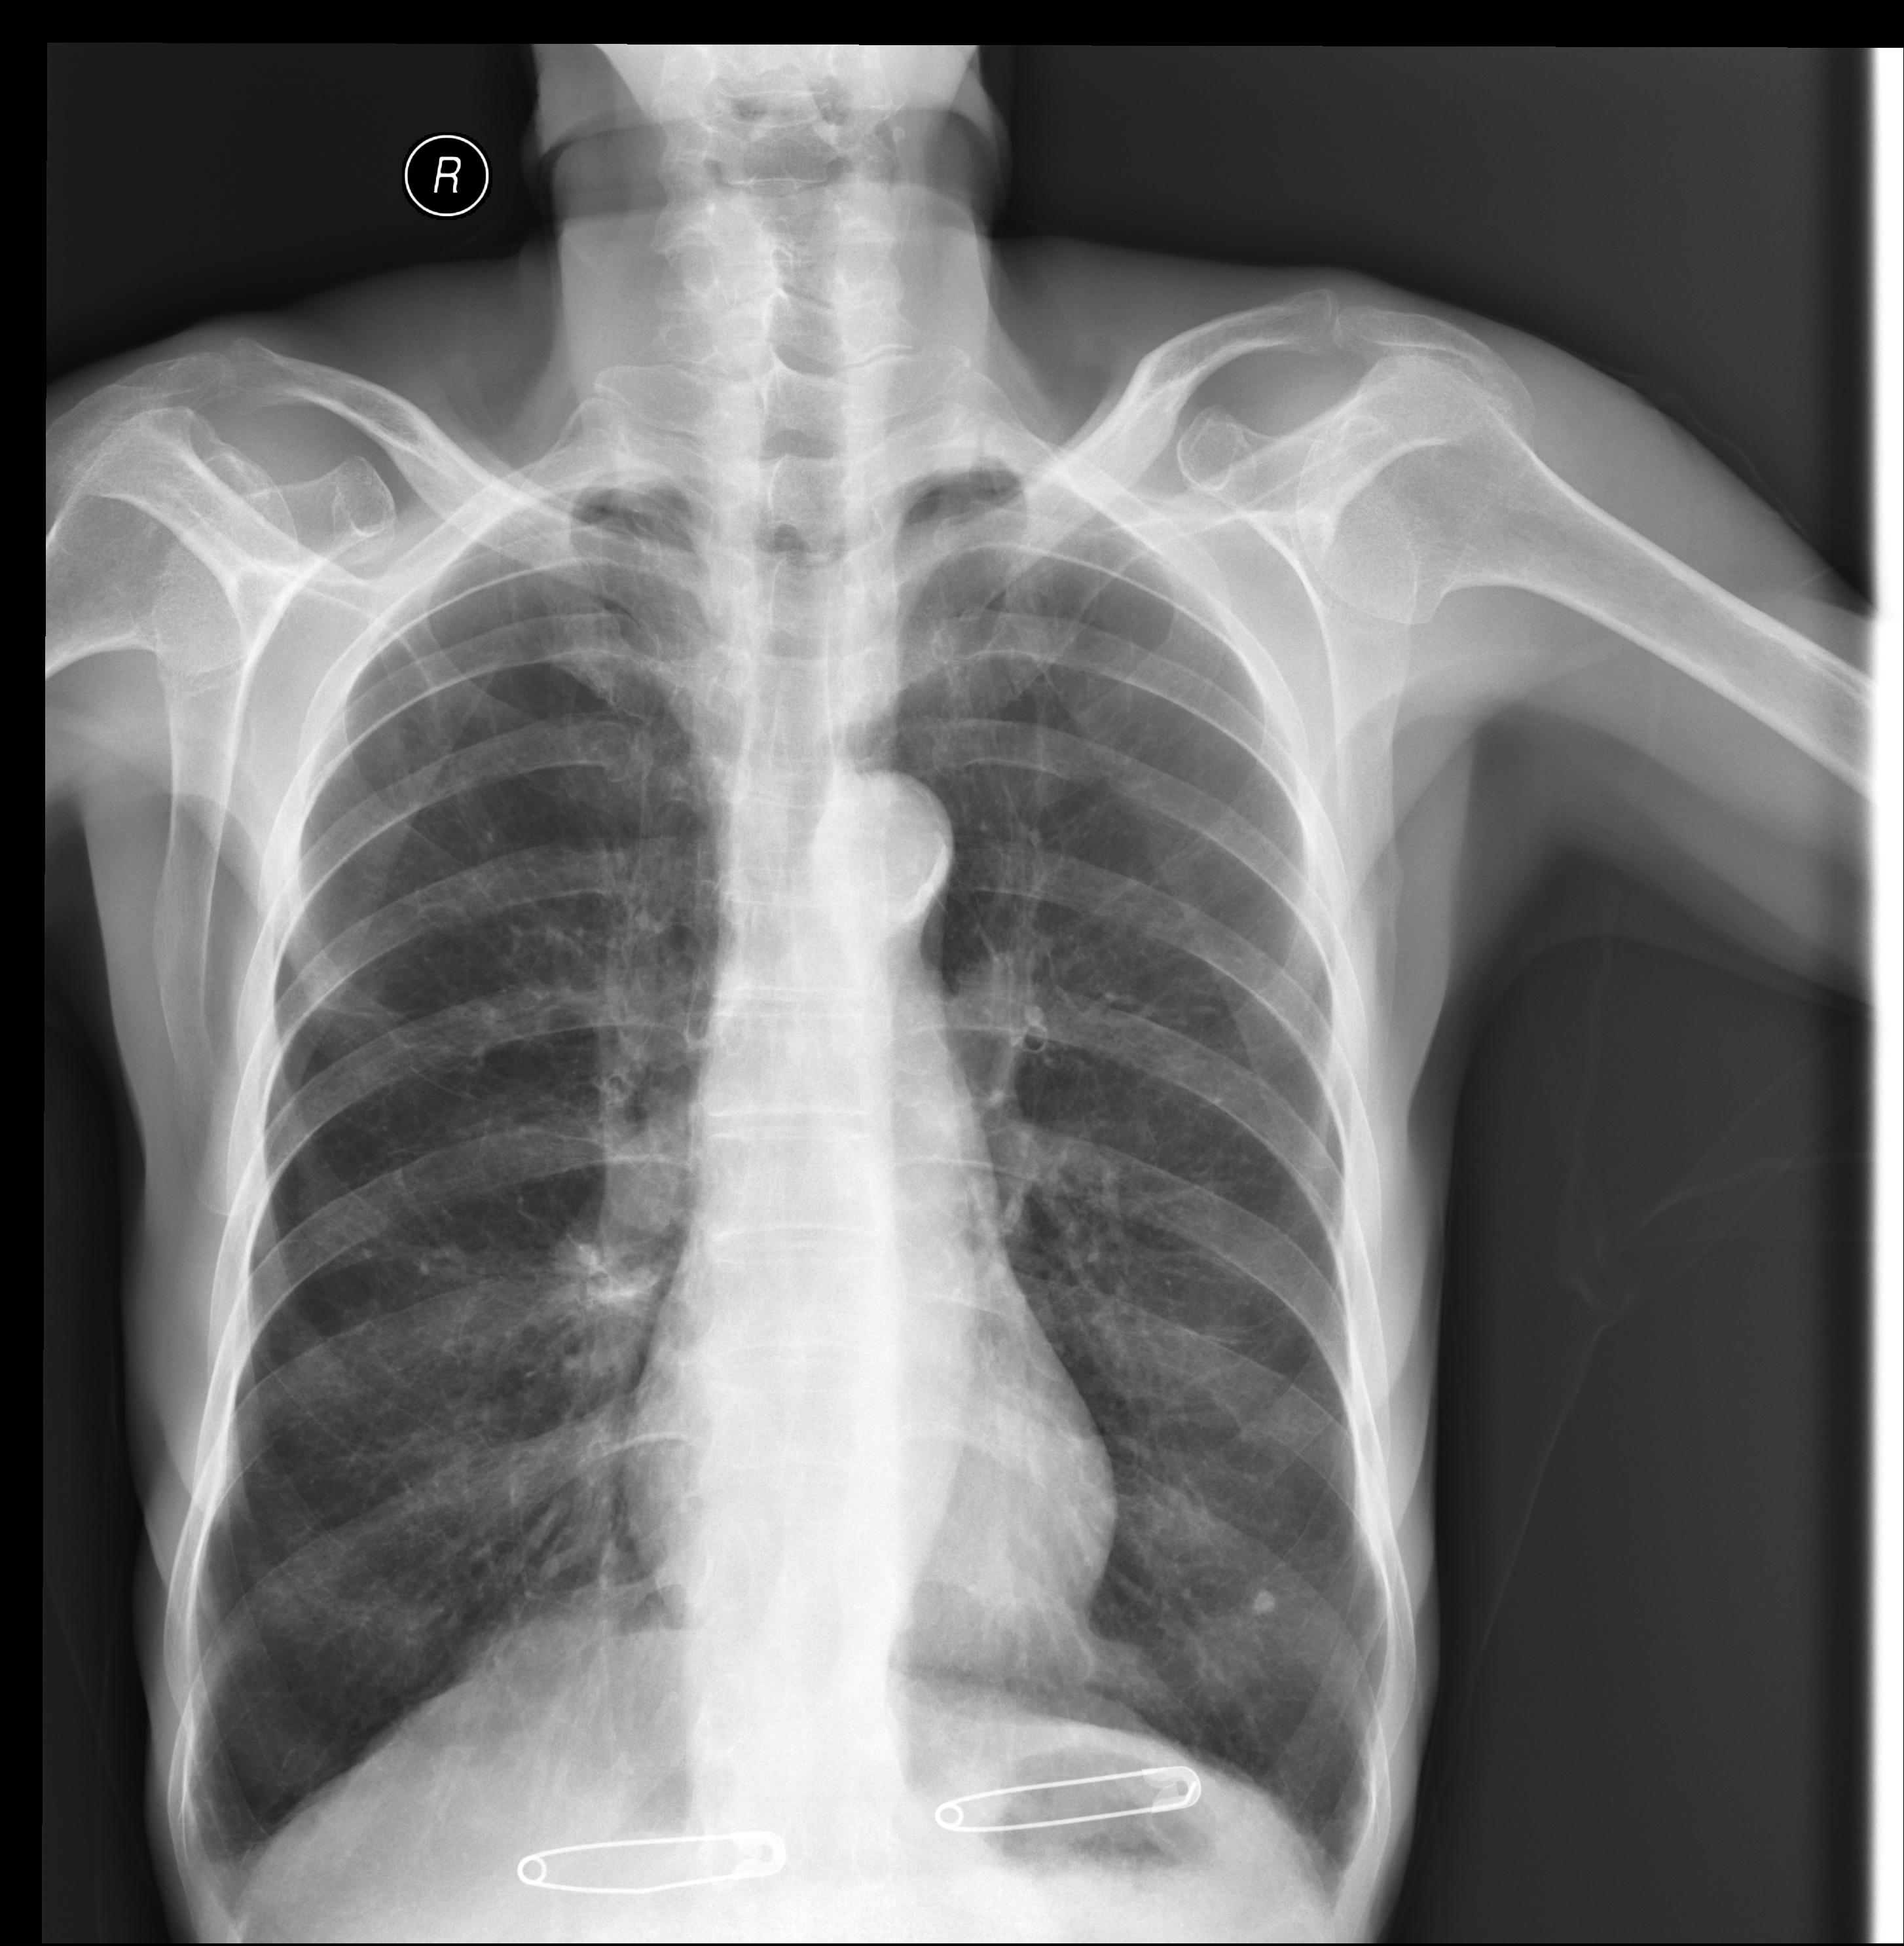nodule: (1207, 1552, 1320, 1672)
